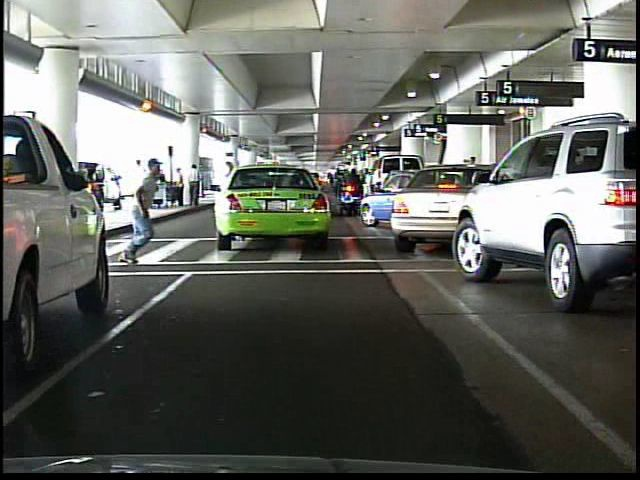person: (119, 154, 171, 272)
